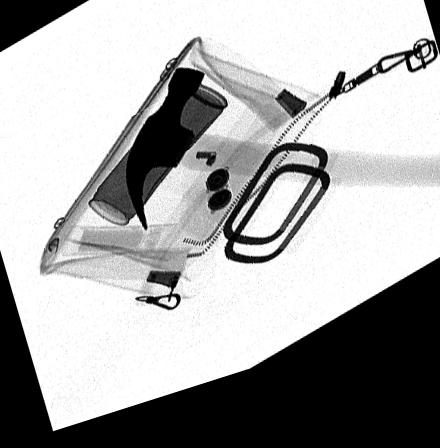Hammer: (124, 77, 440, 240)
